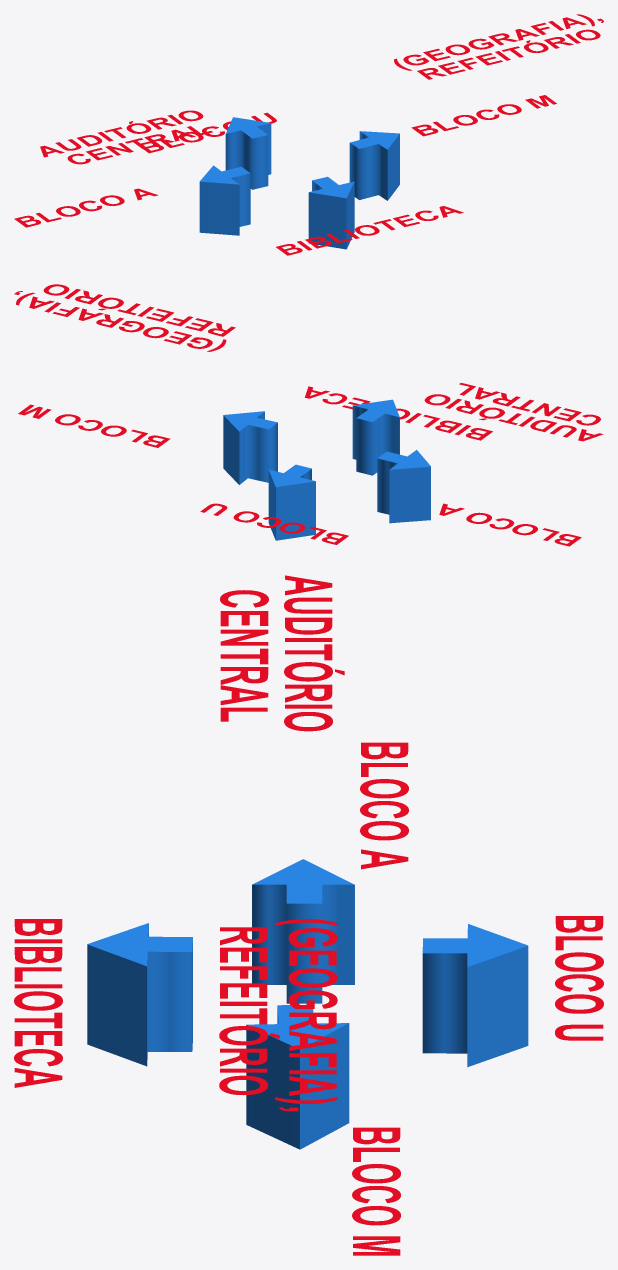
File: Seta bloco U.glb
3 views of the same model, one above another, from view 1: azimuth 30°, elevation 25°; view 2: azimuth 150°, elevation 25°; view 3: azimuth 270°, elevation 25° (orthographic). The views are drawn at different scales.
Parts seen in each view (by area): view 1: Curve.002, Curve.003, Curve.001, Curve.004, Texto.003, Texto.004, Text, Texto.001, Texto.002, Text.003, Text.002, Texto; view 2: Curve.002, Curve.003, Curve.004, Curve.001, Texto.003, Texto.004, Texto.001, Text, Texto.002, Text.003, Texto, Text.002; view 3: Curve.004, Curve.001, Curve.002, Curve.003, Texto.003, Texto.004, Text, Texto.001, Texto.002, Text.003, Texto, Text.002.
Boxes of the visible parts, x1=… form: Curve.002: x1=199, y1=165, x2=250, y2=235; Curve.003: x1=349, y1=131, x2=399, y2=200; Curve.001: x1=308, y1=176, x2=354, y2=249; Curve.004: x1=225, y1=117, x2=271, y2=189; Texto.003: x1=394, y1=14, x2=603, y2=70; Texto.004: x1=417, y1=29, x2=600, y2=79; Text: x1=276, y1=206, x2=463, y2=255; Texto.001: x1=40, y1=110, x2=203, y2=157; Texto.002: x1=67, y1=126, x2=212, y2=164; Text.003: x1=411, y1=95, x2=556, y2=136; Text.002: x1=14, y1=188, x2=158, y2=227; Texto: x1=141, y1=112, x2=276, y2=153; Curve.002: x1=377, y1=450, x2=430, y2=523; Curve.003: x1=223, y1=411, x2=277, y2=484; Curve.004: x1=268, y1=464, x2=315, y2=540; Curve.001: x1=352, y1=399, x2=399, y2=475; Texto.003: x1=14, y1=291, x2=226, y2=351; Texto.004: x1=43, y1=284, x2=235, y2=336; Texto.001: x1=424, y1=394, x2=603, y2=441; Text: x1=305, y1=386, x2=492, y2=440; Texto.002: x1=459, y1=383, x2=600, y2=425; Text.003: x1=18, y1=404, x2=170, y2=447; Texto: x1=200, y1=503, x2=348, y2=544; Text.002: x1=439, y1=503, x2=581, y2=546; Curve.004: x1=422, y1=924, x2=528, y2=1067; Curve.001: x1=87, y1=923, x2=192, y2=1066; Curve.002: x1=252, y1=859, x2=354, y2=1003; Curve.003: x1=246, y1=1004, x2=349, y2=1149; Texto.003: x1=275, y1=919, x2=337, y2=1111; Texto.004: x1=219, y1=927, x2=279, y2=1095; Text: x1=14, y1=919, x2=62, y2=1087; Texto.001: x1=284, y1=575, x2=344, y2=731; Texto.002: x1=220, y1=590, x2=268, y2=721; Text.003: x1=352, y1=1127, x2=400, y2=1255; Texto: x1=555, y1=916, x2=603, y2=1040; Text.002: x1=360, y1=742, x2=408, y2=869.
Size of the model in its own units: 4.01 by 0.8045 by 1.87.
